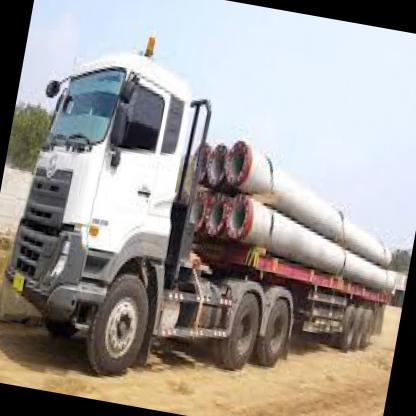truck: (1, 41, 200, 380)
